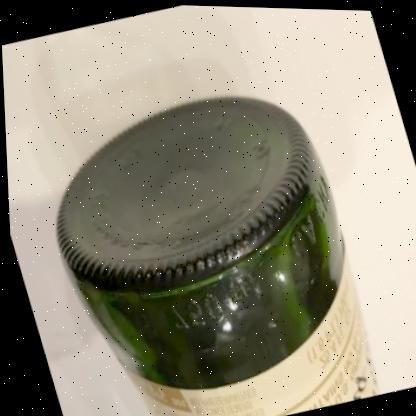Glass: (54, 95, 374, 416)
